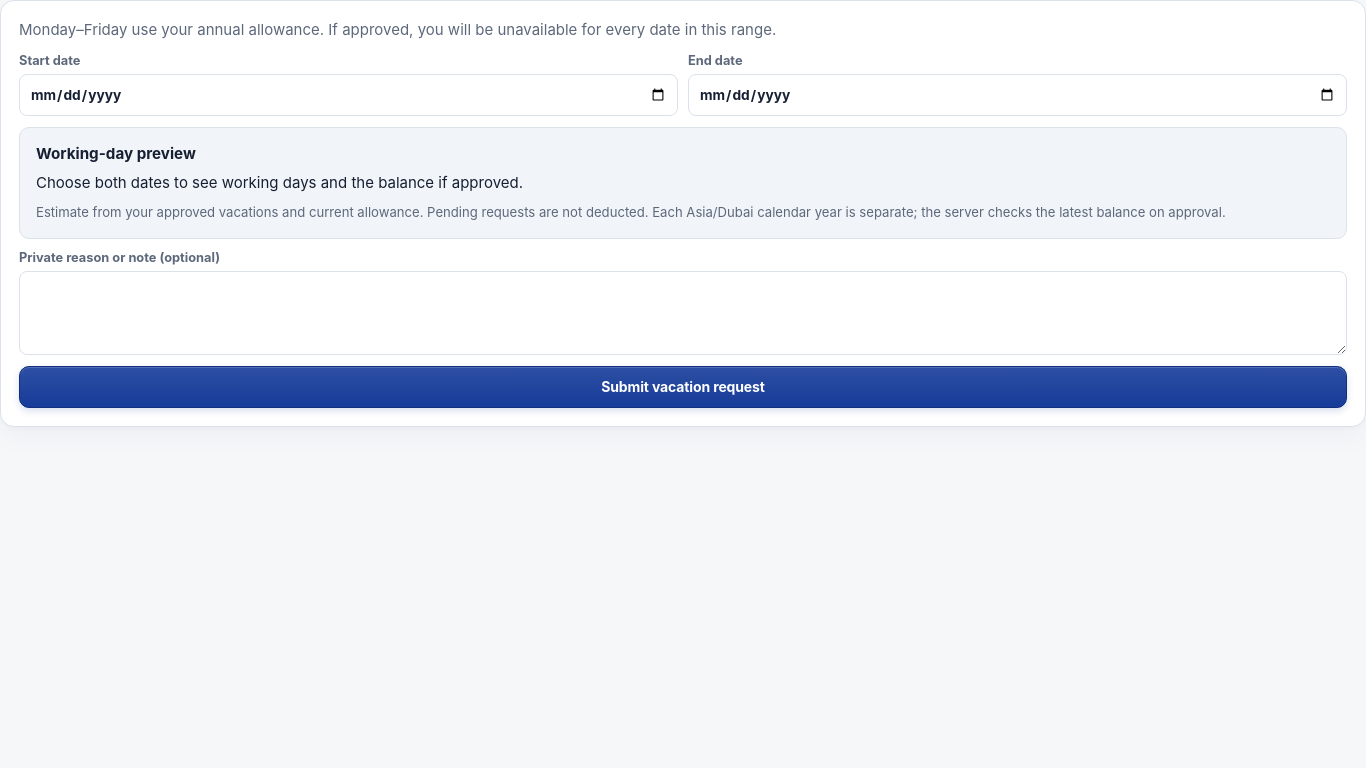
Test: previews each calendar year's working days and approved balance without blocking an advisory deficit
Type "2026-12-31" into the date field labelled "Start date" at point(348, 94), box [19,74,678,116]
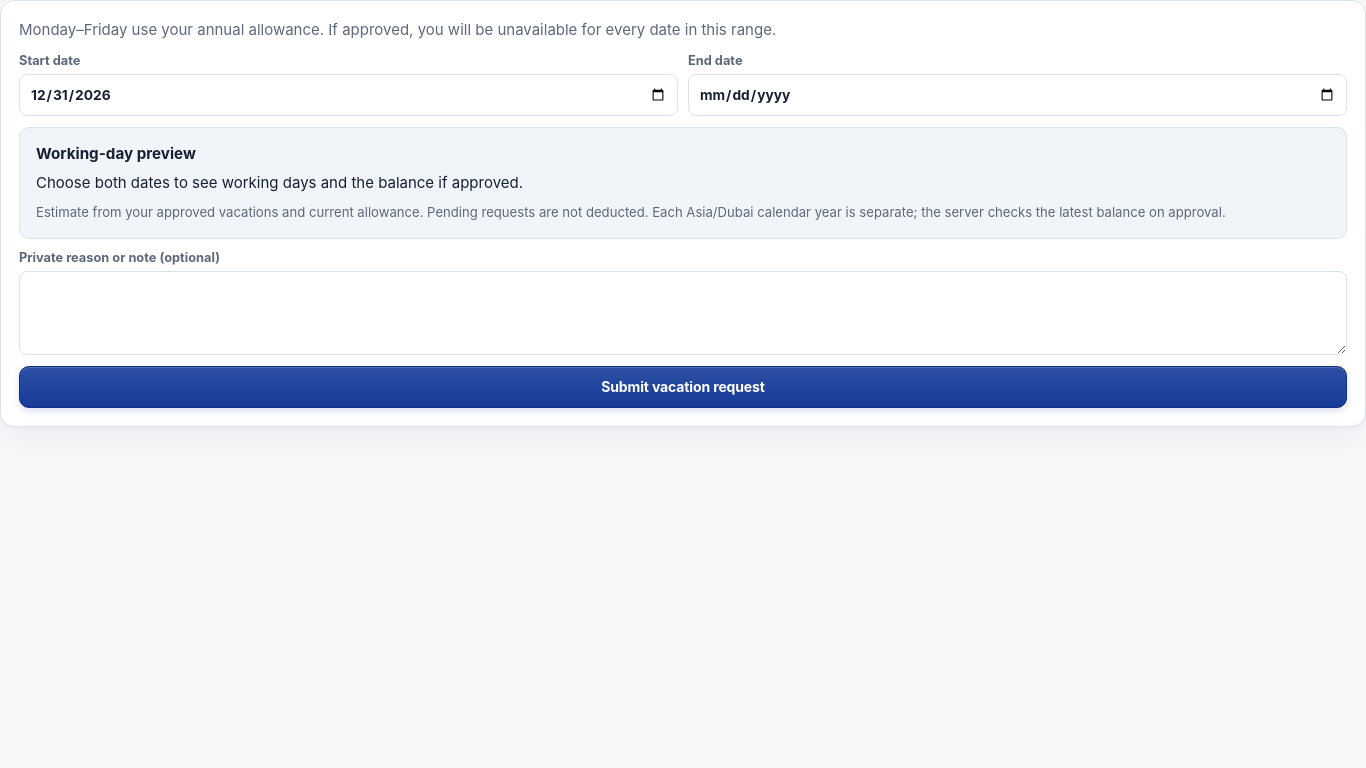
Type "2027-01-04" into the date field labelled "End date" at point(1018, 94), box [688,74,1347,116]
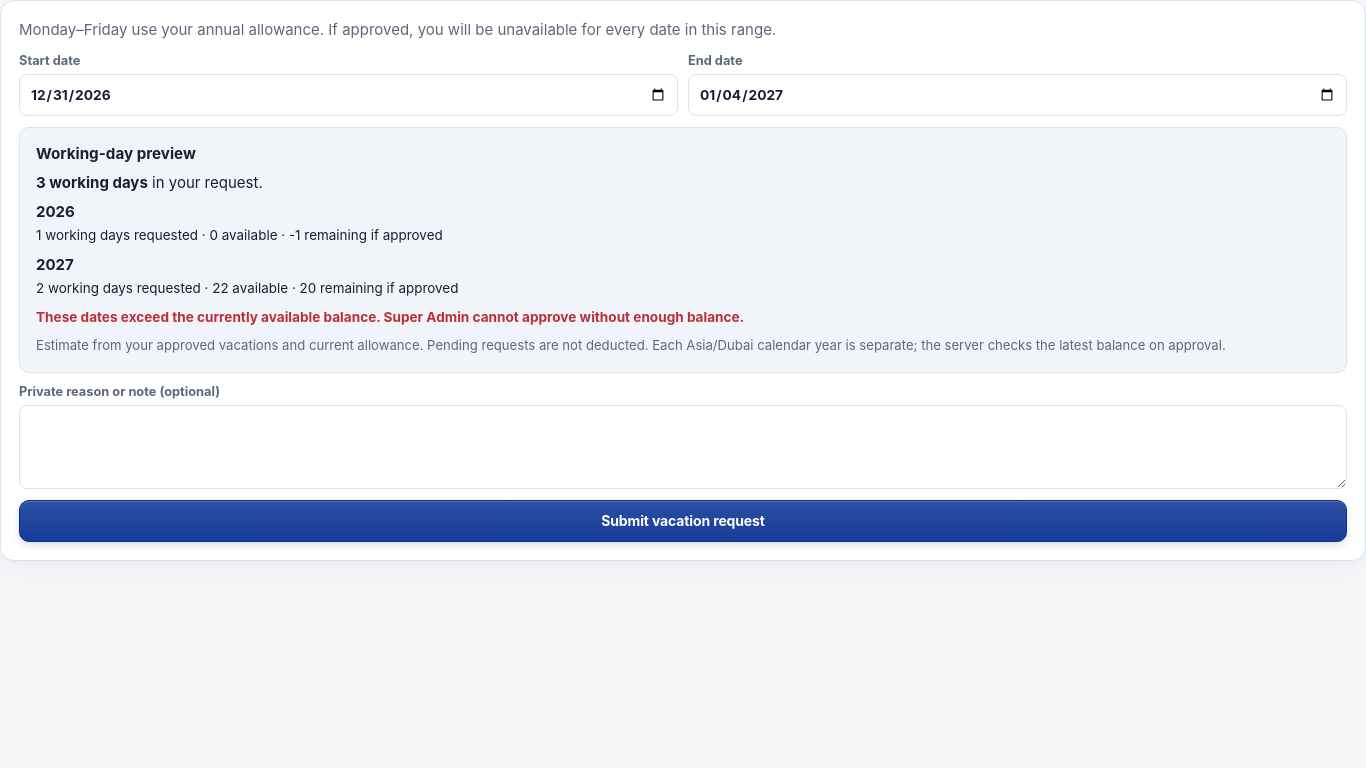
Check: the element named "Vacation balance preview" shows "3 working days in your request", box [19,126,1347,372]
Check: the text "1 working days requested · 0 available · -1 remaining if approved" is shown, box [36,226,443,242]
Check: the text "2 working days requested · 22 available · 20 remaining if approved" is shown, box [36,280,458,296]
